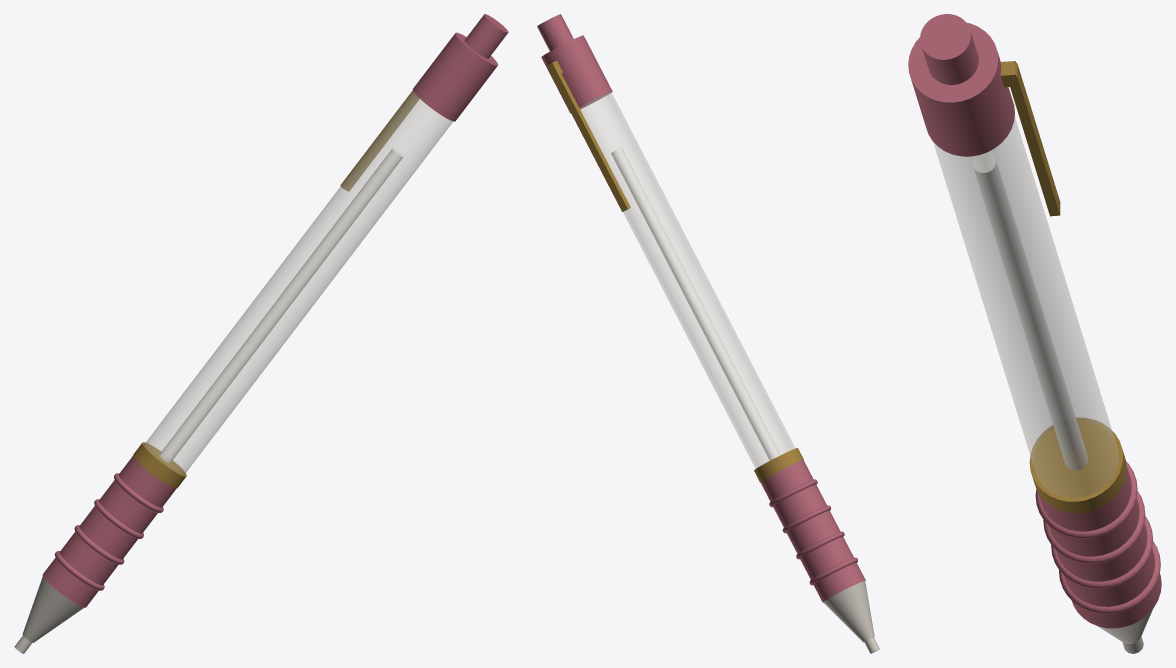
The model's file is pen.glb.
3 views of the same model, side by side, from view 1: azimuth 30°, elevation 25°; view 2: azimuth 150°, elevation 25°; view 3: azimuth 270°, elevation 25° (orthographic). The views are drawn at different scales.
Visible parts, largest first — view 1: barrel, grip, ink_tube, cap, tip_cone, clip, band, button; view 2: barrel, grip, ink_tube, cap, tip_cone, clip, button, band; view 3: barrel, grip, cap, ink_tube, band, button, clip, grip_ring_3, grip_ring_0, grip_ring_2, grip_ring_1, tip_cone.
Boxes of the visible parts, left/top/right/bottom form: barrel: left=144, top=91, right=452, bottom=474; grip: left=42, top=456, right=176, bottom=607; ink_tube: left=159, top=148, right=403, bottom=463; cap: left=413, top=32, right=497, bottom=121; tip_cone: left=22, top=576, right=83, bottom=642; clip: left=340, top=90, right=419, bottom=191; band: left=133, top=442, right=186, bottom=488; button: left=464, top=14, right=508, bottom=58; barrel: left=579, top=92, right=795, bottom=468; grip: left=760, top=460, right=865, bottom=602; ink_tube: left=611, top=148, right=780, bottom=460; cap: left=541, top=35, right=612, bottom=113; tip_cone: left=823, top=580, right=874, bottom=642; clip: left=548, top=64, right=630, bottom=211; button: left=537, top=14, right=573, bottom=51; band: left=754, top=448, right=803, bottom=482; barrel: left=933, top=116, right=1118, bottom=497; grip: left=1038, top=465, right=1161, bottom=628; cap: left=908, top=23, right=1014, bottom=156; ink_tube: left=972, top=152, right=1087, bottom=470; band: left=1029, top=417, right=1126, bottom=513; button: left=920, top=14, right=978, bottom=84; clip: left=1007, top=63, right=1060, bottom=216; grip_ring_3: left=1035, top=461, right=1137, bottom=538; grip_ring_0: left=1059, top=541, right=1160, bottom=614; grip_ring_2: left=1043, top=491, right=1145, bottom=563; grip_ring_1: left=1051, top=516, right=1152, bottom=588; tip_cone: left=1098, top=609, right=1152, bottom=643.
Size of the model in its own units: 0.9931 by 1.25 by 0.2952.
